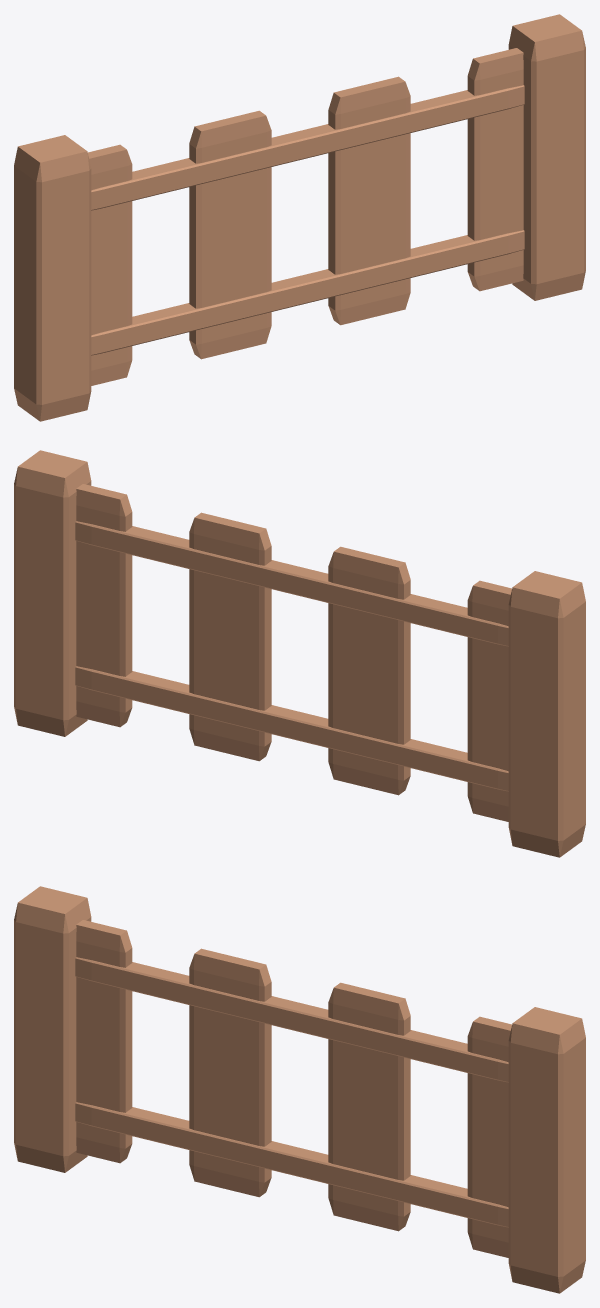
The model's file is b19_crossbuck_ranch_fence.glb.
The picture shows the model from 3 angles, top to bottom: view 1: azimuth 30°, elevation 25°; view 2: azimuth 150°, elevation 25°; view 3: azimuth 330°, elevation 25°; orthographic projection.
Parts seen in each view (by area): view 1: b19_crossbuck_ranch_fence; view 2: b19_crossbuck_ranch_fence; view 3: b19_crossbuck_ranch_fence.
Boxes of the visible parts, left/top/right/bottom form: b19_crossbuck_ranch_fence: left=14, top=14, right=585, bottom=421; b19_crossbuck_ranch_fence: left=14, top=450, right=585, bottom=857; b19_crossbuck_ranch_fence: left=14, top=886, right=585, bottom=1293.
Size of the model in its own units: 3.05 by 1.37 by 0.25.
